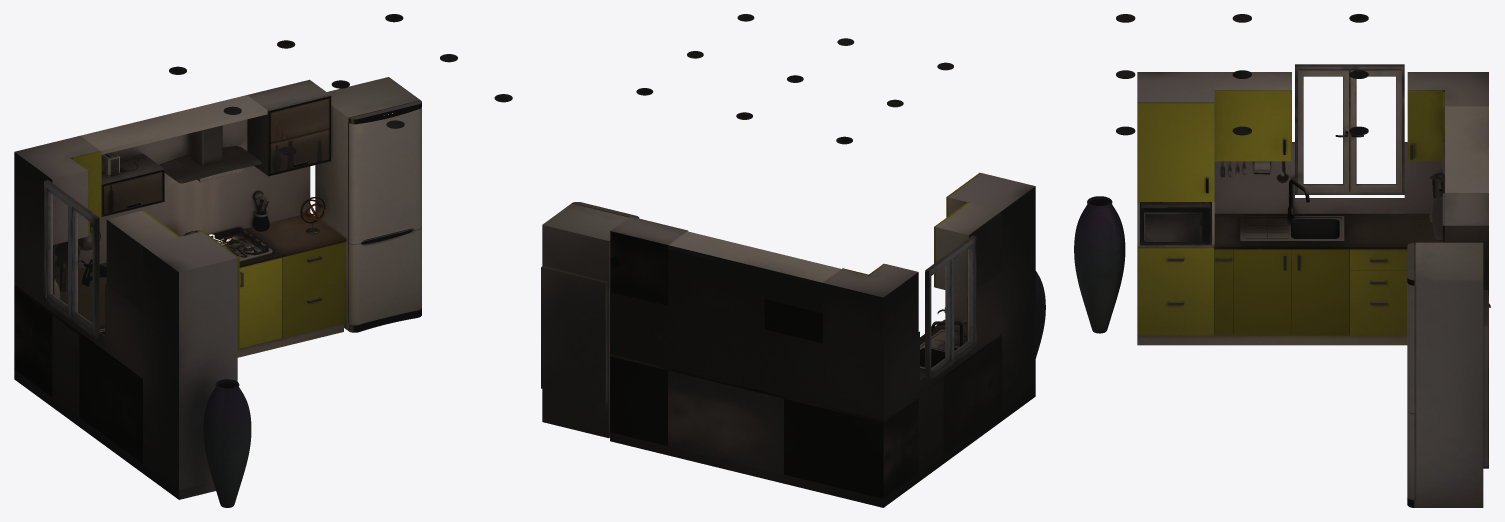
Rendered from kitchen2.glb.
3 renders of one model, left to right at view 1: azimuth 30°, elevation 25°; view 2: azimuth 150°, elevation 25°; view 3: azimuth 270°, elevation 25°, orthographic. The views are drawn at different scales.
Parts seen in each view (by area): view 1: Object_16, Object_6, Object_3, Object_7, Object_18, Object_17, Object_15; view 2: Object_16, Object_3, Object_6, Object_7, Object_18; view 3: Object_16, Object_6, Object_3, Object_7, Object_18, Object_17.
Boxes of the visible parts, x1,y1,x2,y2 form: Object_16: [14, 119, 310, 489]; Object_6: [44, 14, 512, 338]; Object_3: [14, 79, 346, 463]; Object_7: [14, 95, 343, 499]; Object_18: [203, 379, 251, 507]; Object_17: [81, 146, 261, 286]; Object_15: [60, 126, 221, 291]; Object_16: [610, 172, 1035, 472]; Object_3: [610, 216, 1002, 498]; Object_6: [541, 14, 976, 474]; Object_7: [610, 202, 1035, 507]; Object_18: [1035, 271, 1045, 358]; Object_16: [1137, 72, 1488, 367]; Object_6: [1116, 14, 1488, 507]; Object_3: [1214, 141, 1488, 458]; Object_7: [1137, 72, 1490, 468]; Object_18: [1074, 196, 1125, 333]; Object_17: [1145, 197, 1442, 240].
Size of what is drawn, in the model's own units: 365 by 300 by 324.
Materials: 3 (3 with a texture image).
